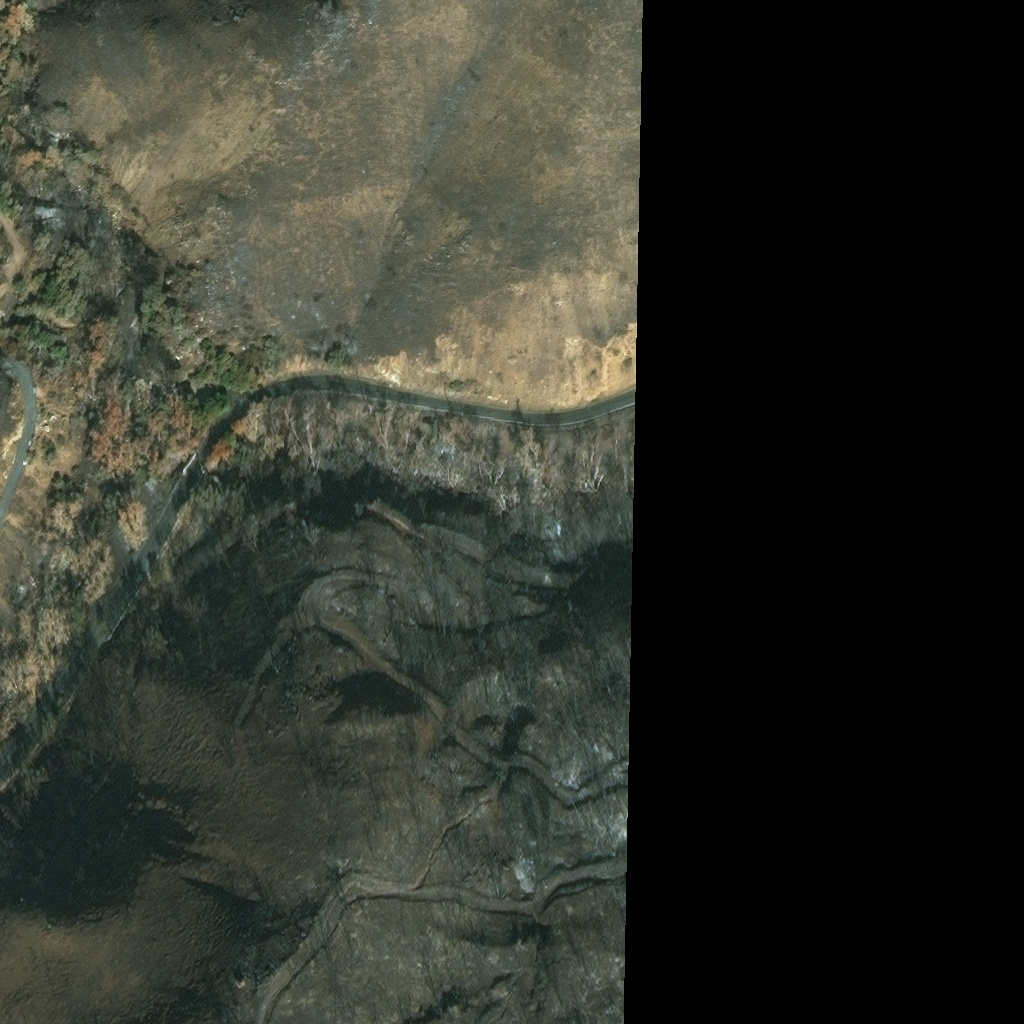3 destroyed: (148, 377, 181, 413), (163, 531, 176, 548)
